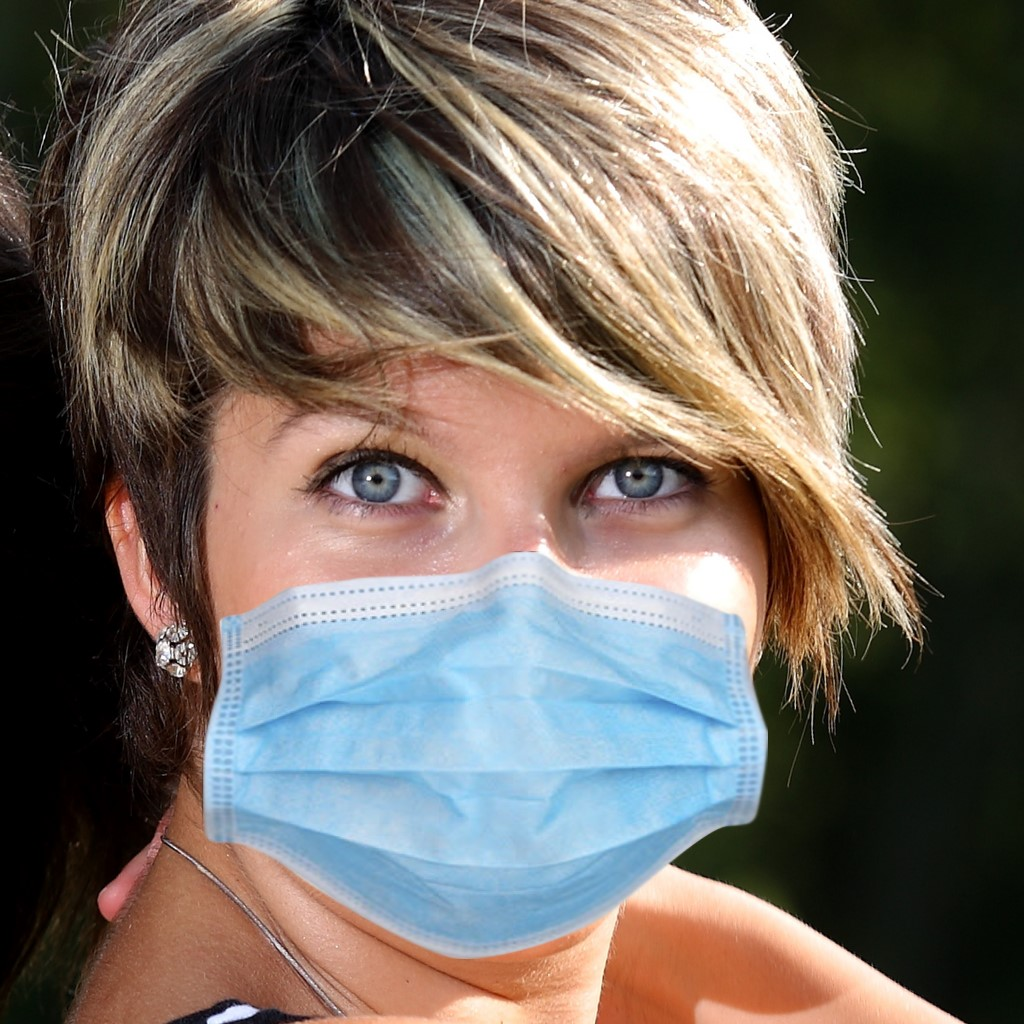con_mascara: (171, 280, 785, 963)
